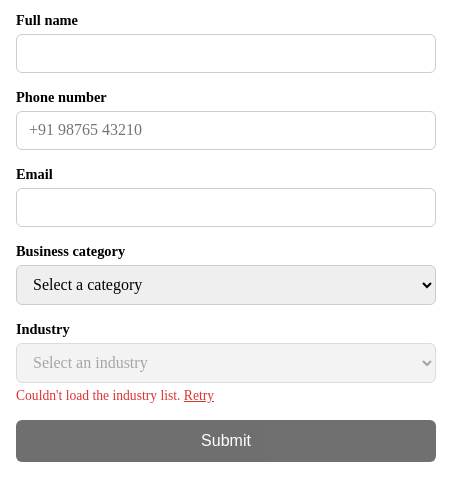
Test: LeadForm › shows an error and a retry option when the industry list fails to load
The width and height of the screenshot is (453, 479).
Expected: the text "Couldn't load the industry list. Retry" is shown, [16,388,214,404]
Expected: the button "Submit" is disabled, [16,420,436,462]
What coordinates should you click on to do the following:
click the button "Retry"
I would click on:
 (199, 396)
Its box is [184,388,214,404].
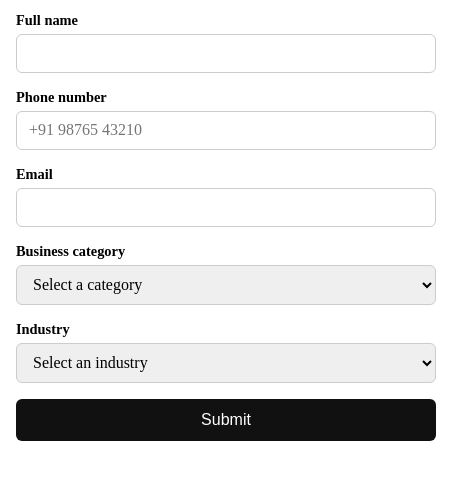
Now the button "Submit" is enabled, box [16,399,436,441]
